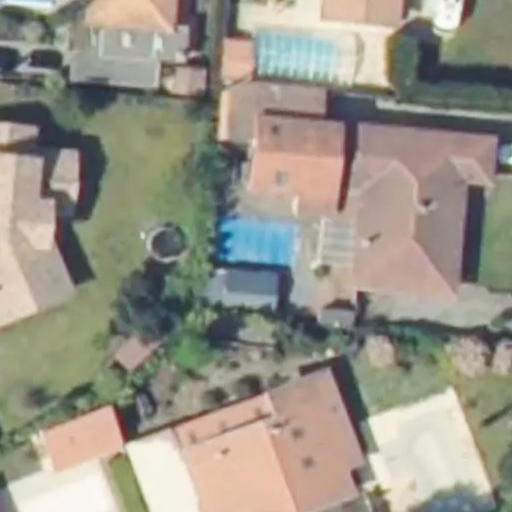pool: (213, 214, 302, 271)
